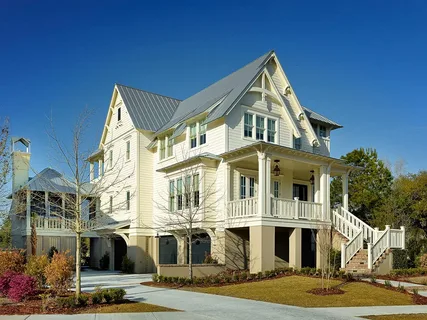private_hause: (79, 48, 364, 277)
